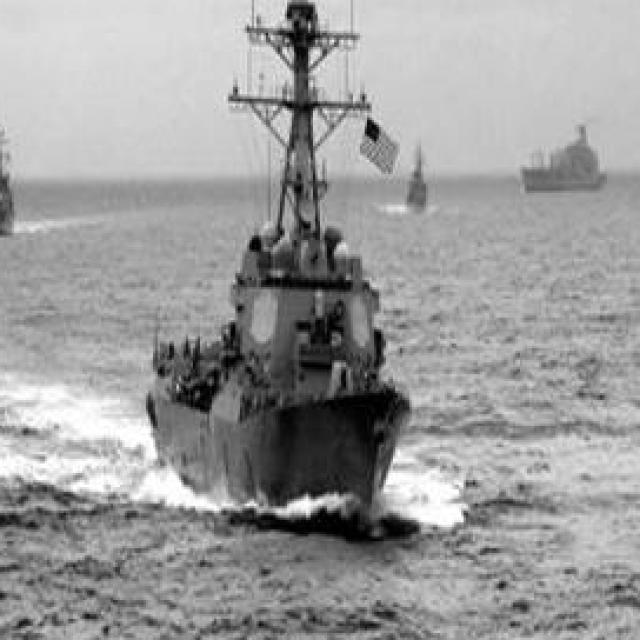navalvessels: (139, 0, 419, 518), (515, 118, 607, 196), (0, 106, 31, 230), (403, 138, 436, 212)
